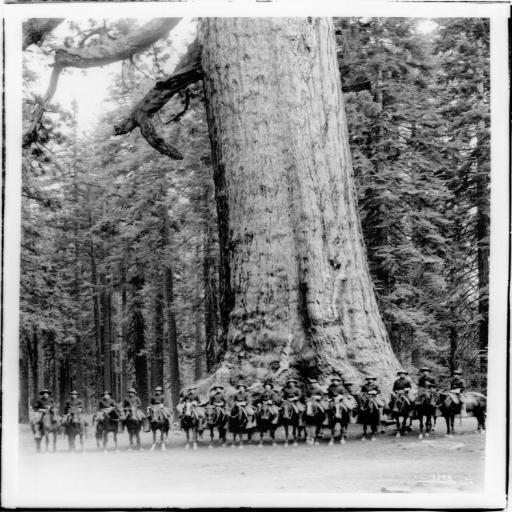Horse: (90, 388, 486, 454), (30, 403, 64, 451), (62, 404, 91, 450)
